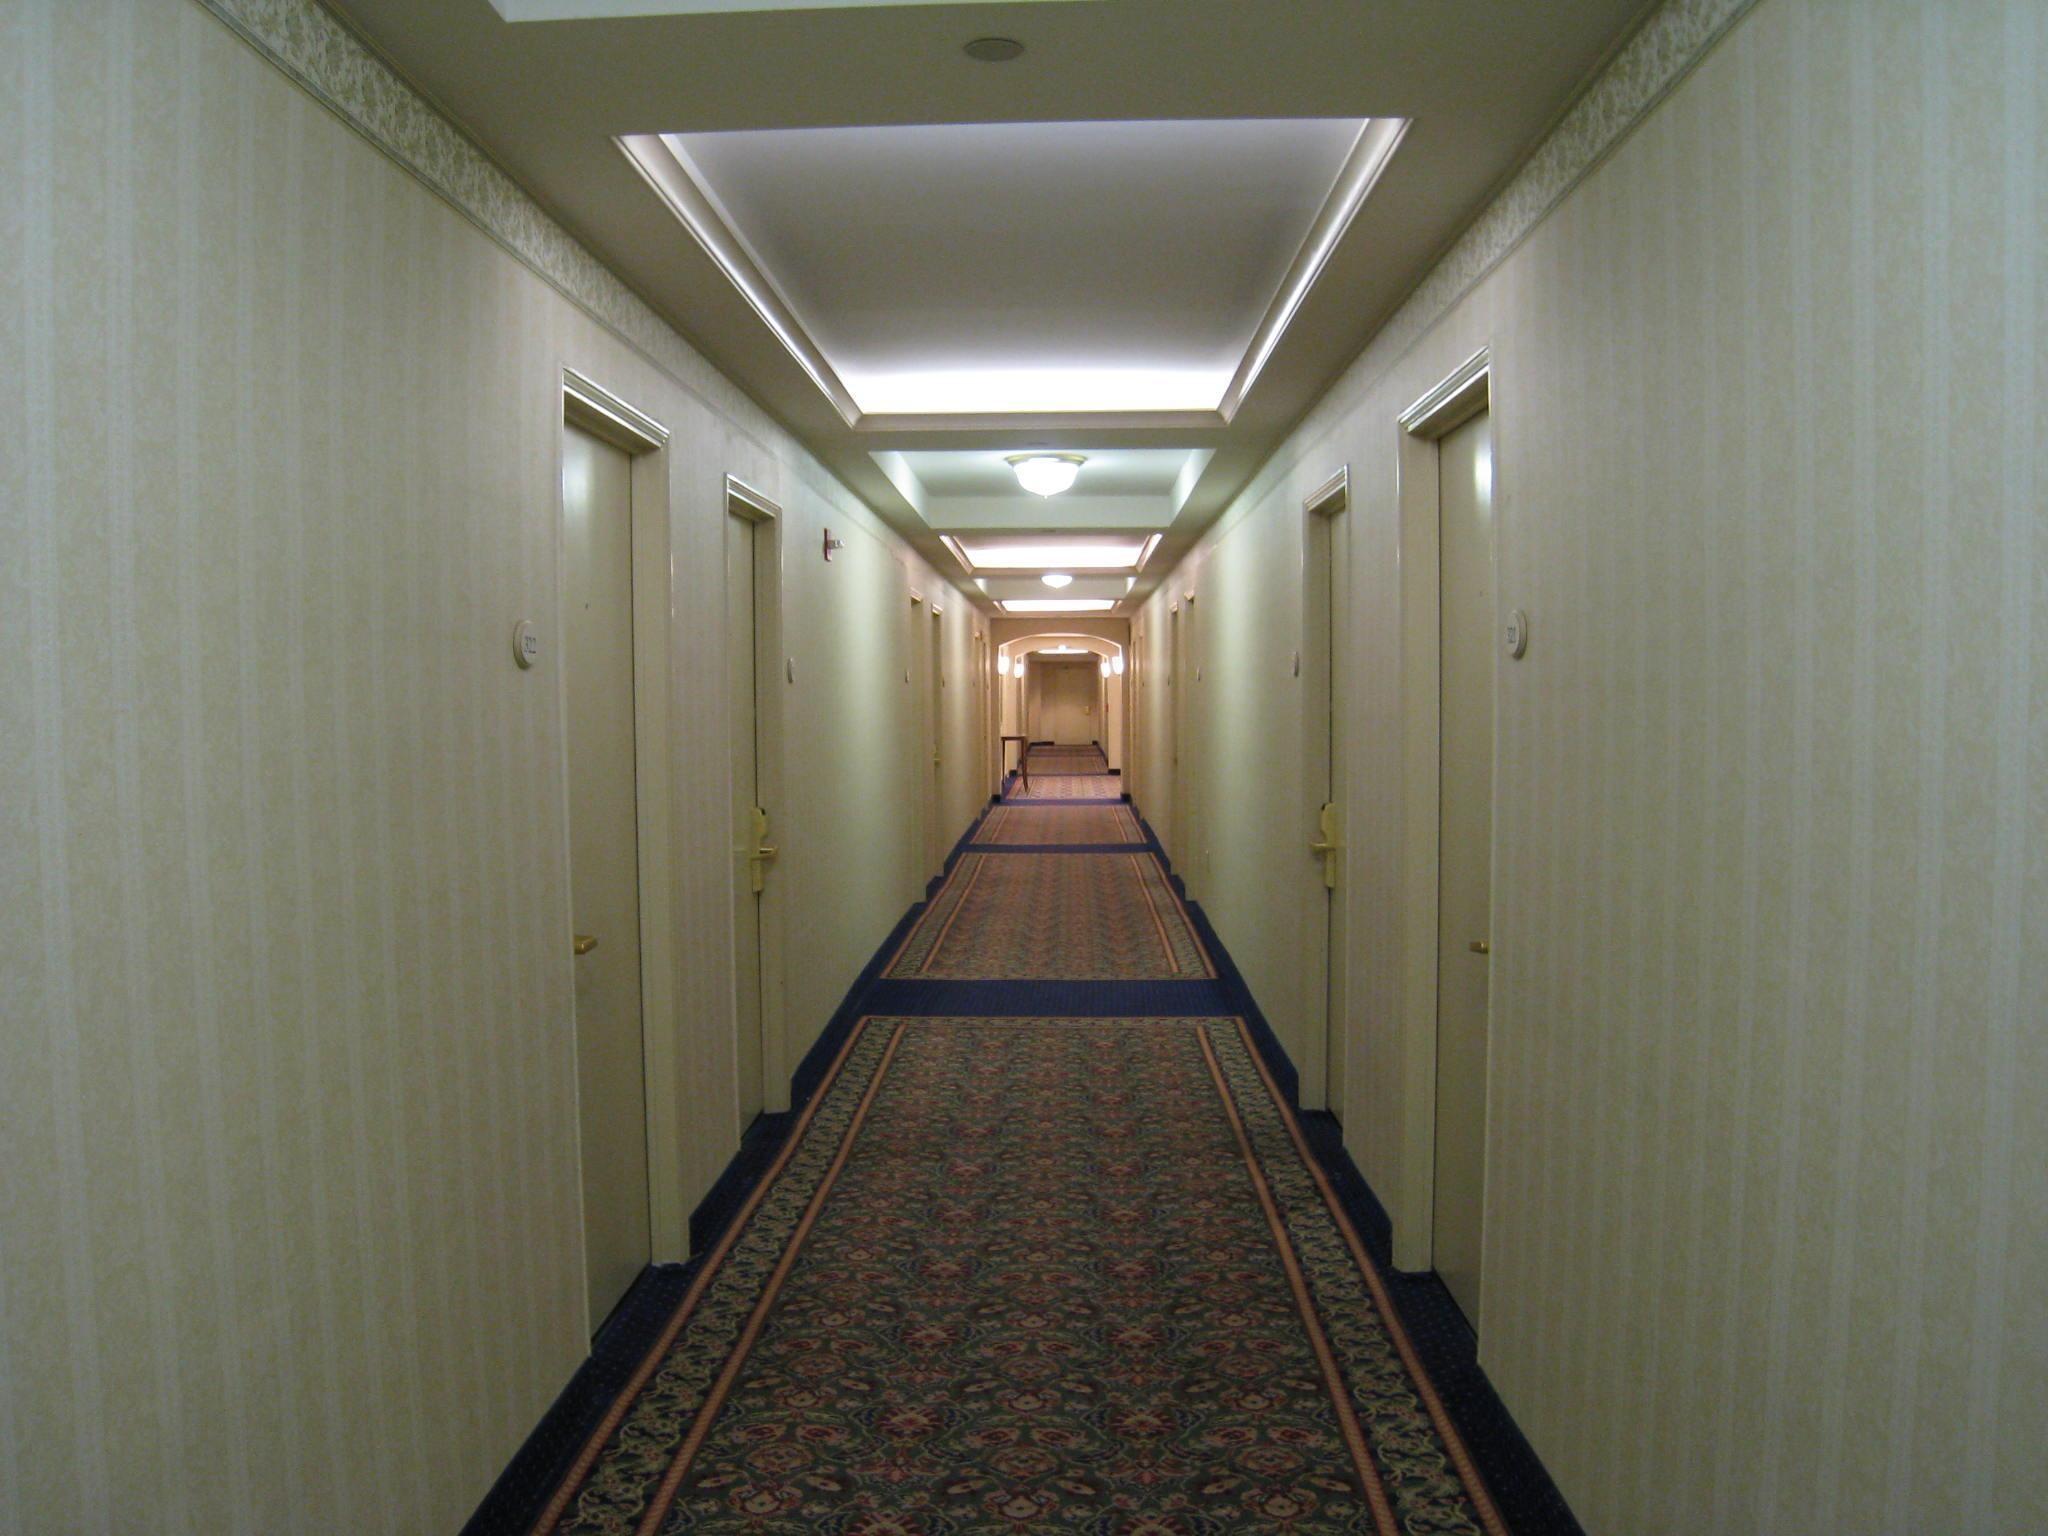Puerta: (547, 374, 682, 1283), (1397, 379, 1503, 1354), (1292, 481, 1363, 1137), (727, 502, 784, 1154)
